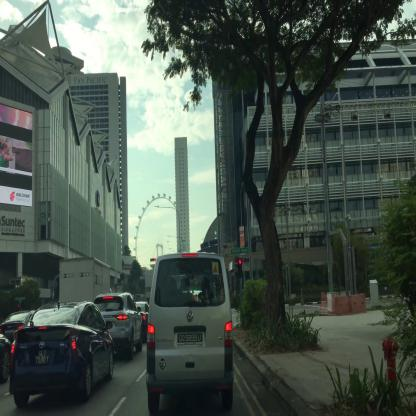red_traffic_light: (238, 258, 241, 275), (151, 258, 156, 261)
